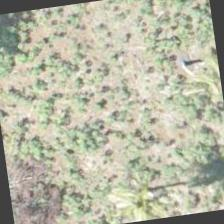Kelapa_Sawit: (86, 149, 186, 223)
